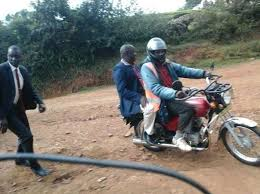helmet: (146, 37, 167, 62)
